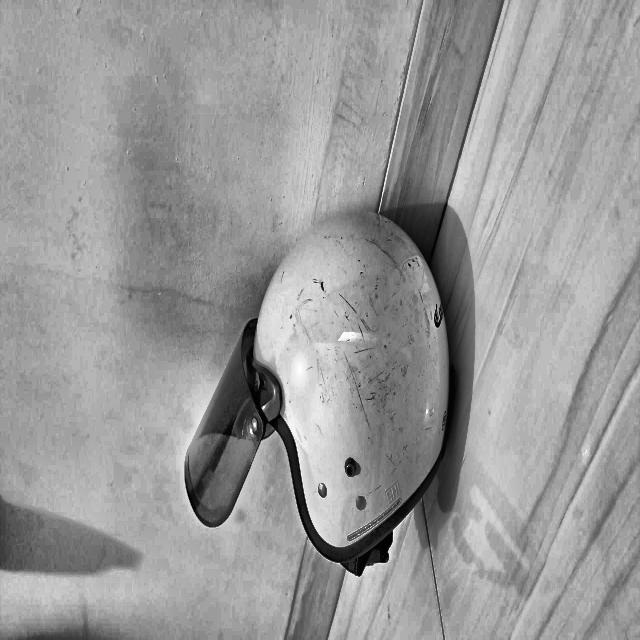Helmet: (24, 259, 271, 640)
